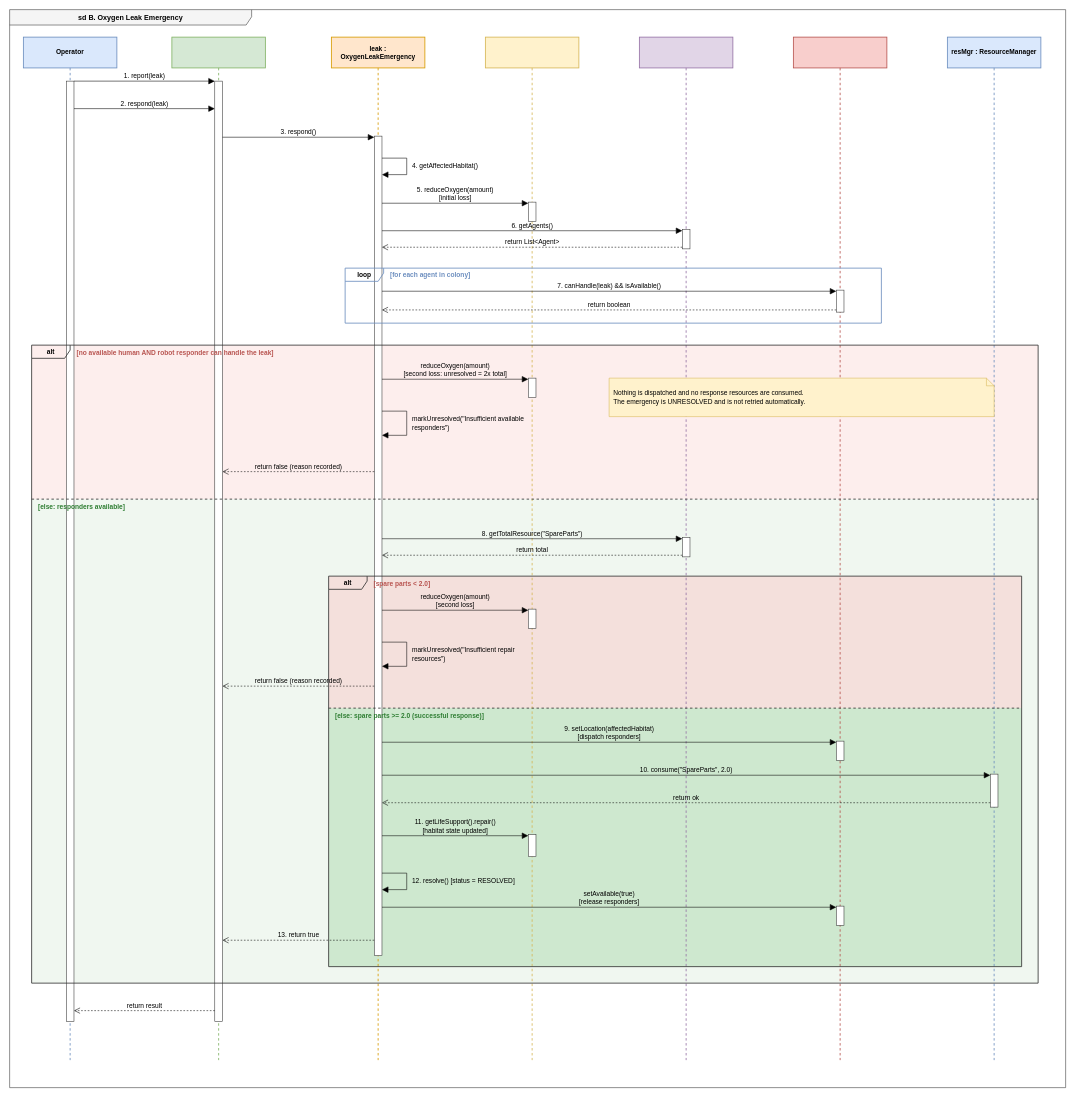
Image size: 1075x1097. Some labels were removed from this diagram. The box of each missing label's shape, as (x1, y1, x2, y2) in pixels:
affectedHabitat : Habitat: (485, 36, 579, 1060)
colony : MarsColony: (639, 36, 733, 1060)
emgMgr : EmergencyManager: (171, 36, 266, 1060)
responders : Agent (Engineer, RepairRobot): (793, 36, 887, 1060)
